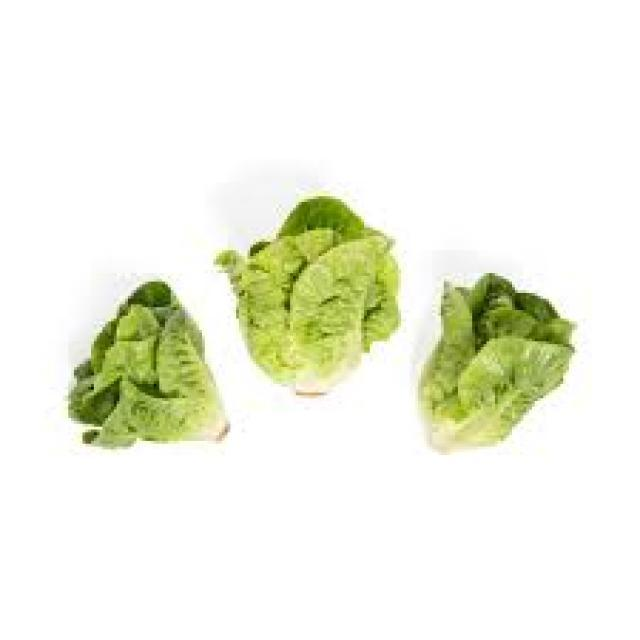Lettuce: (215, 197, 398, 400), (415, 268, 582, 457), (67, 275, 230, 450)
